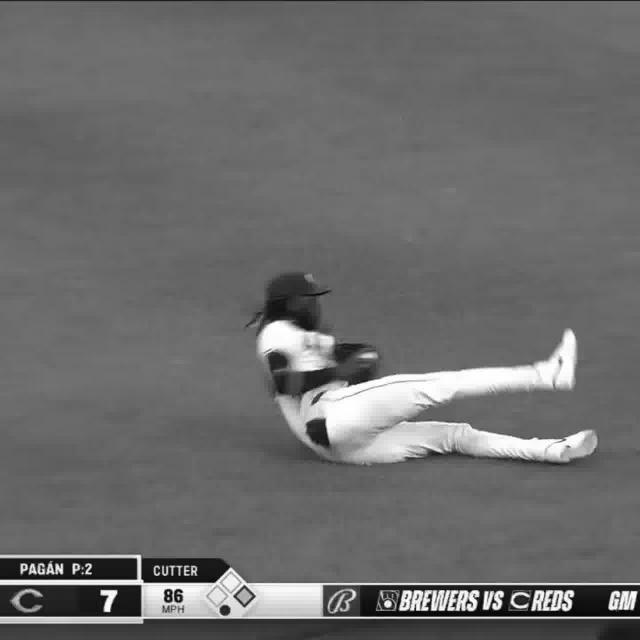baseball: (360, 353, 375, 361)
baseball_glove: (334, 341, 388, 380)
shoe: (554, 324, 580, 401), (550, 430, 599, 465)
